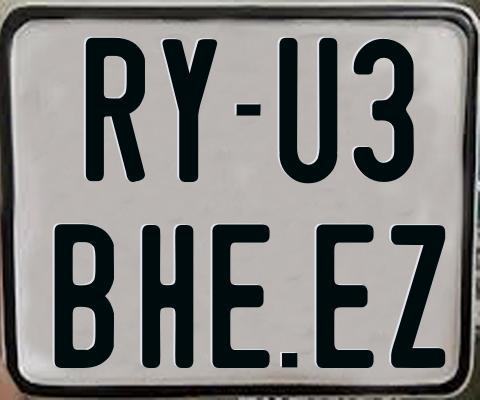3: (354, 36, 420, 182)
B: (55, 224, 119, 370)
E: (315, 223, 376, 373), (210, 224, 270, 370)
H: (142, 225, 195, 371)
R: (84, 35, 143, 179)
U: (276, 38, 339, 189)
Y: (159, 39, 217, 185)
Z: (389, 223, 447, 372)
